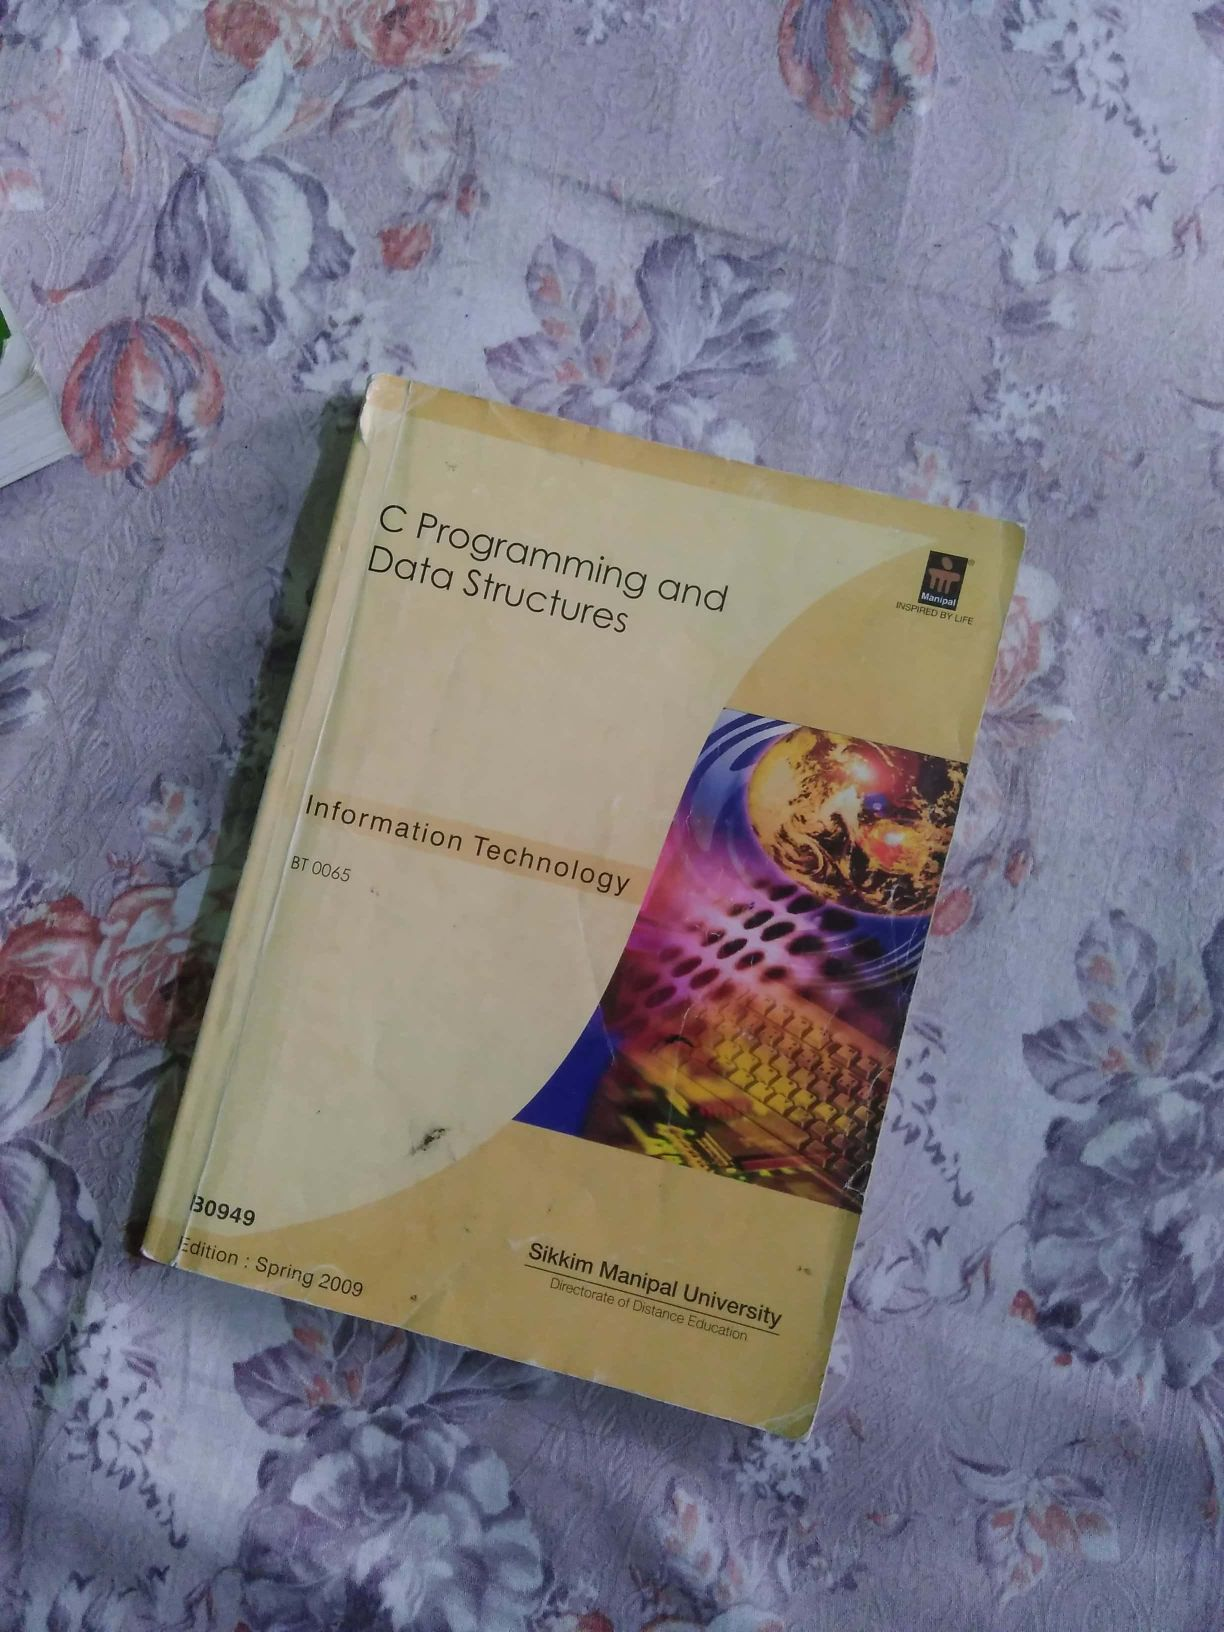clang: (177, 356, 941, 1414)
